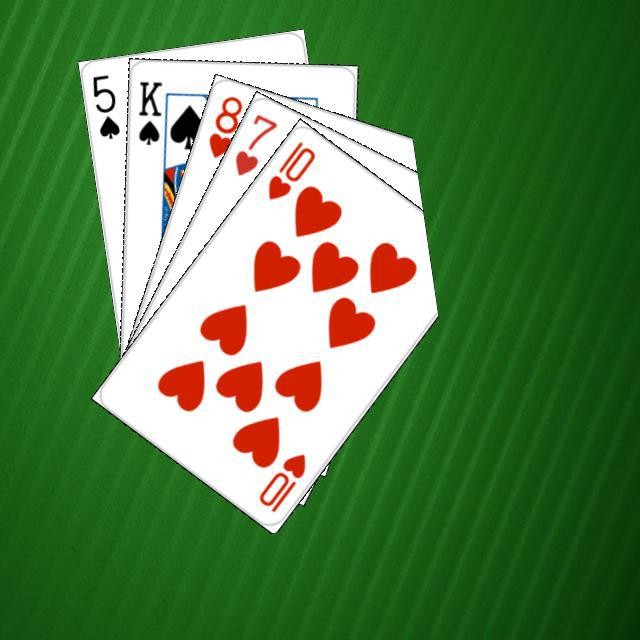10h: (253, 448, 308, 515), (262, 136, 317, 202)
5s: (87, 69, 121, 141)
7h: (230, 108, 280, 178)
8h: (203, 91, 244, 160)
Ks: (133, 76, 164, 146)
